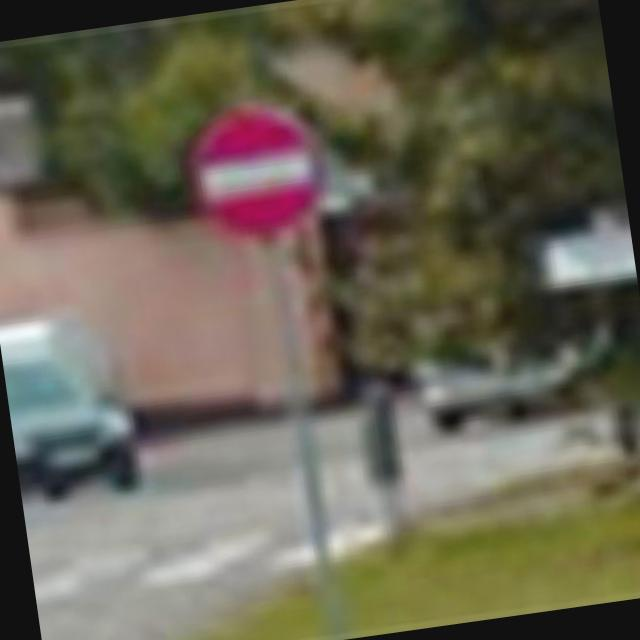Zakaz wjazdu: (180, 97, 333, 249)
